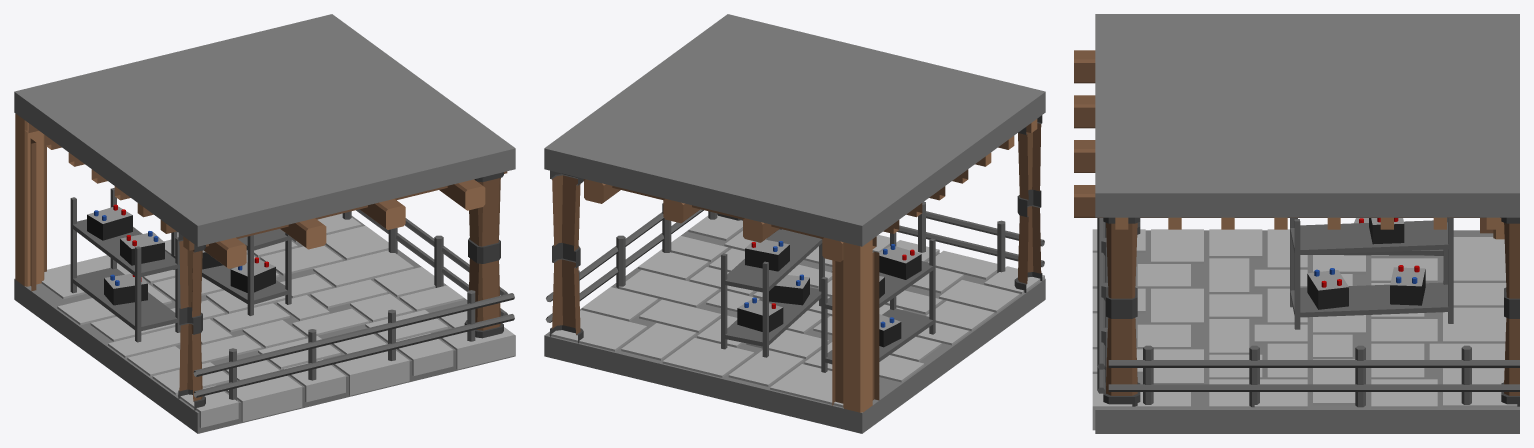
The model's file is BatteryRoom_Lvl_02_Corner_Left_Right.fbx.
3 renders of one model, left to right at view 1: azimuth 30°, elevation 25°; view 2: azimuth 150°, elevation 25°; view 3: azimuth 270°, elevation 25°, orthographic. The views are drawn at different scales.
Visible parts, largest first — view 1: BatteryRoom_Lvl_02_Corner_Left_Right; view 2: BatteryRoom_Lvl_02_Corner_Left_Right; view 3: BatteryRoom_Lvl_02_Corner_Left_Right.
Boxes of the visible parts, left/top/right/bottom form: BatteryRoom_Lvl_02_Corner_Left_Right: left=14, top=14, right=515, bottom=433; BatteryRoom_Lvl_02_Corner_Left_Right: left=544, top=14, right=1045, bottom=433; BatteryRoom_Lvl_02_Corner_Left_Right: left=1074, top=14, right=1519, bottom=433.
Bounding box in the file's own units: 8 × 5 × 8.4.
